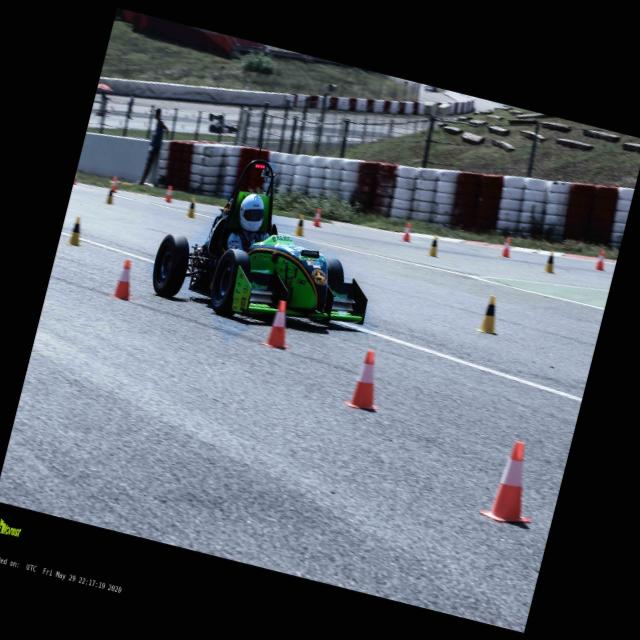orange_cone: (477, 436, 549, 530), (342, 346, 392, 414), (260, 298, 300, 352), (108, 256, 144, 302), (498, 236, 516, 258), (398, 222, 416, 244), (309, 208, 326, 229), (593, 249, 609, 271), (162, 184, 176, 203), (109, 176, 118, 190), (73, 170, 80, 186)
yellow_cone: (476, 294, 504, 335), (64, 215, 88, 247), (540, 250, 560, 274), (424, 234, 444, 258), (290, 215, 309, 238), (182, 197, 200, 220), (102, 185, 120, 206)
